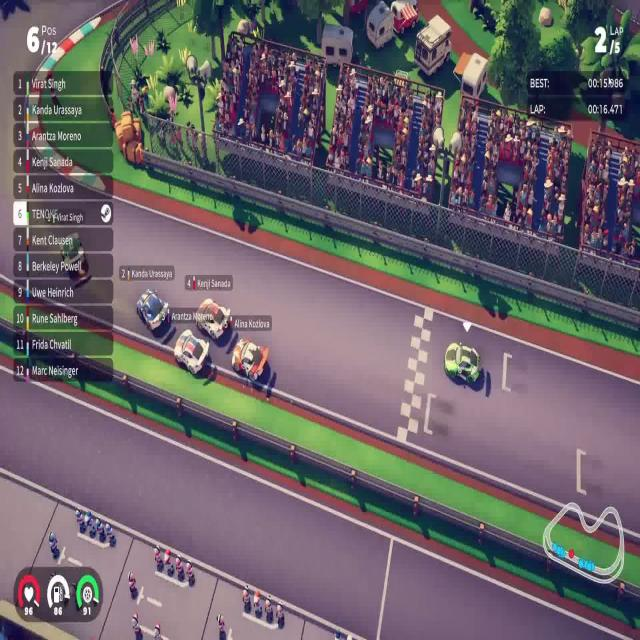car: (231, 337, 276, 400), (173, 328, 210, 376), (443, 340, 481, 386), (135, 286, 171, 334), (195, 297, 232, 341)
